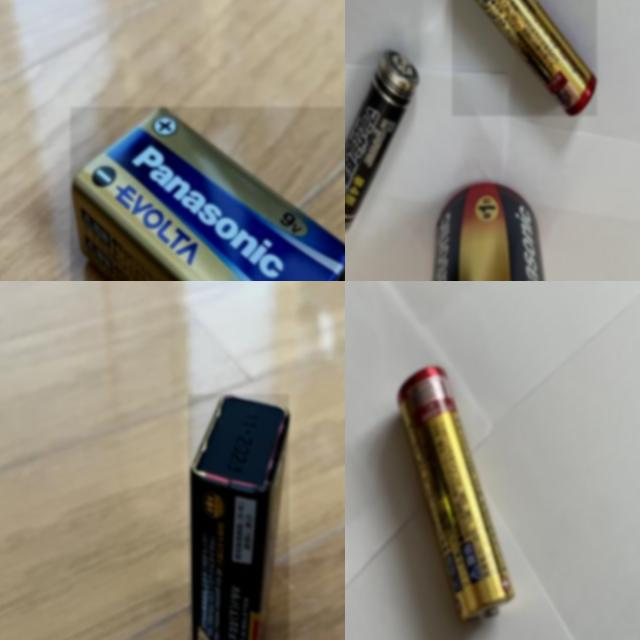9V: (70, 107, 345, 281), (188, 394, 289, 640)
